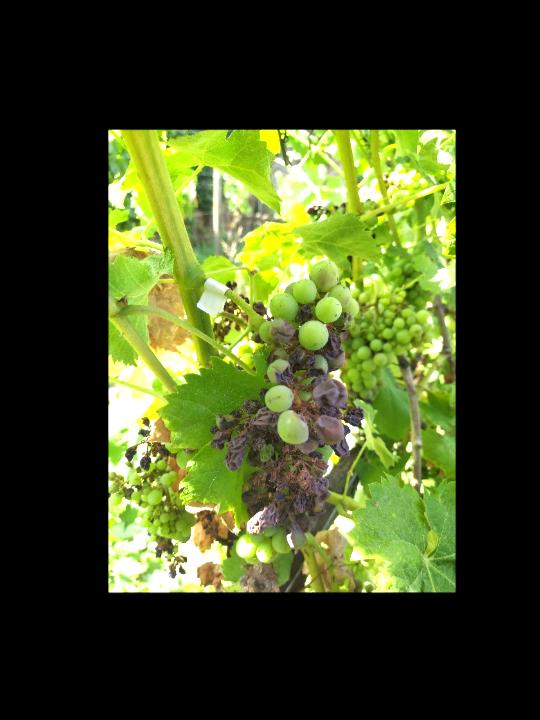grape: (210, 258, 366, 566)
